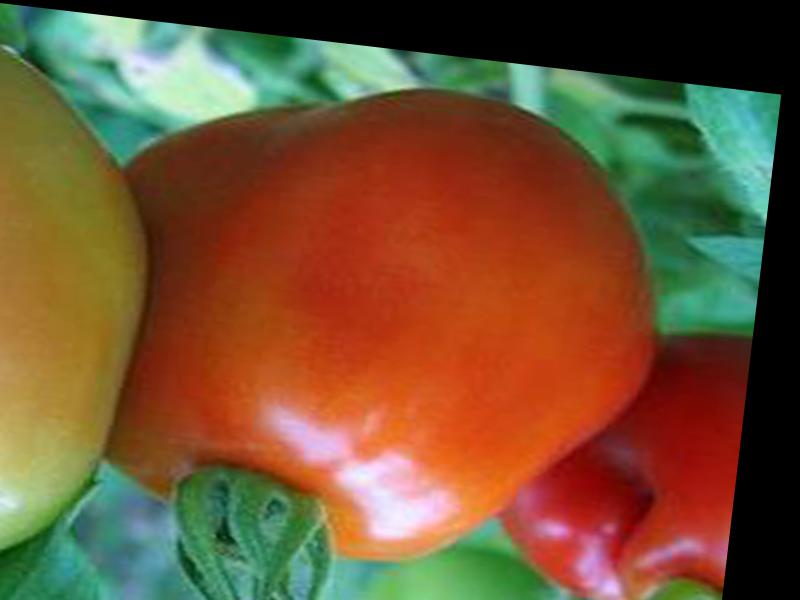Tomato: (107, 58, 682, 590)
